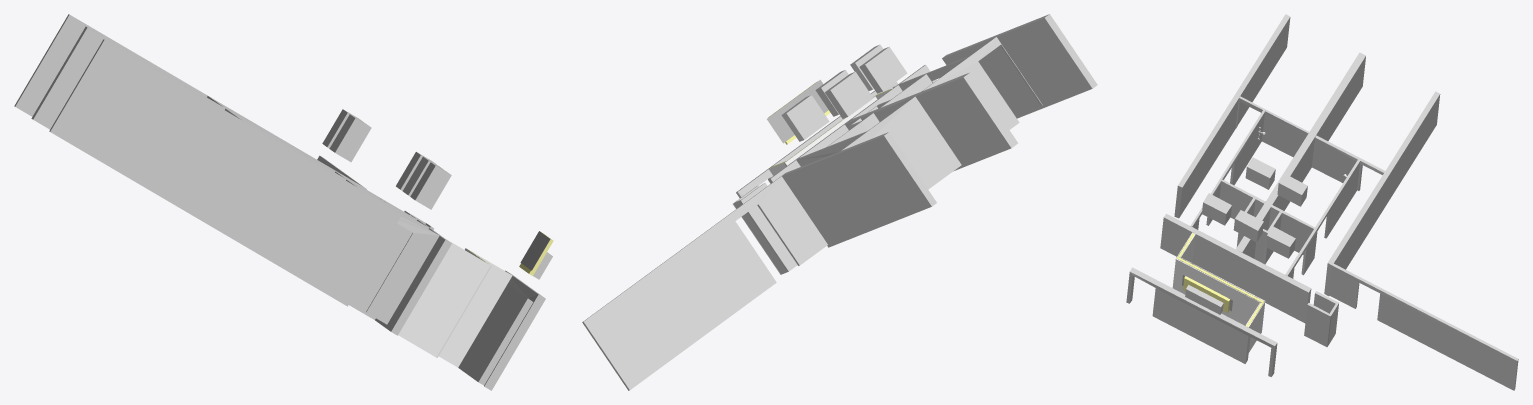
The picture shows the model from 3 angles, left to right: view 1: azimuth 30°, elevation 25°; view 2: azimuth 150°, elevation 25°; view 3: azimuth 270°, elevation 25°; orthographic projection. The views are drawn at different scales.
Parts seen in each view (by area): view 1: mesh; view 2: mesh; view 3: mesh.
Part boxes in pixels (x1=…): mesh: x1=14, y1=14, x2=553, y2=390; mesh: x1=582, y1=14, x2=1097, y2=390; mesh: x1=1126, y1=14, x2=1518, y2=390.
Bounding box in the file's own units: 13.36 × 11.79 × 15.55.
